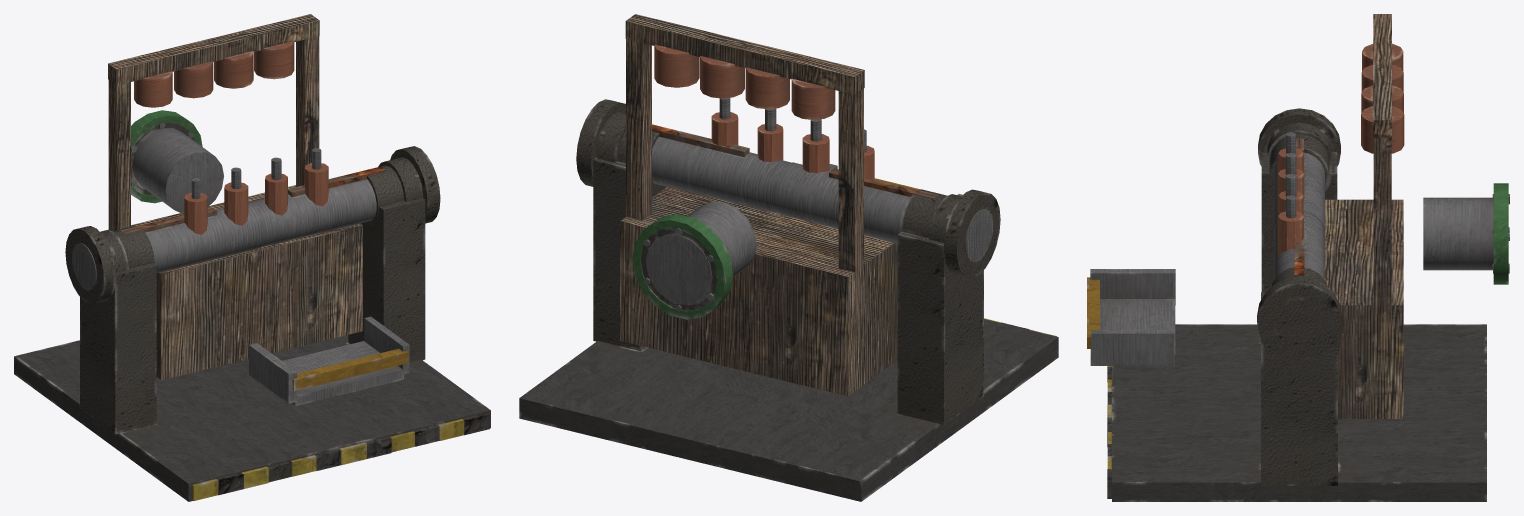
File: feSpinner_HD.fbx
The picture shows the model from 3 angles, left to right: view 1: azimuth 30°, elevation 25°; view 2: azimuth 150°, elevation 25°; view 3: azimuth 270°, elevation 25°; orthographic projection. The views are drawn at different scales.
Parts seen in each view (by area): view 1: feSpinner_Base, FeSpin_DriveShaft, FeSpin_x6_Spindle1, FeSpin_x6_Spindle3, FeSpin_x6_Spindle0, FeSpin_x6_Spindle2; view 2: feSpinner_Base, FeSpin_DriveShaft, FeSpin_x6_Spindle1, FeSpin_x6_Spindle2, FeSpin_x6_Spindle3; view 3: feSpinner_Base, FeSpin_DriveShaft, FeSpin_x6_Spindle3, FeSpin_x6_Spindle1, FeSpin_x6_Spindle2, FeSpin_x6_Spindle0.
Part boxes in pixels (left/top/right/bottom): feSpinner_Base: left=14, top=14, right=490, bottom=501; FeSpin_DriveShaft: left=65, top=146, right=440, bottom=303; FeSpin_x6_Spindle1: left=224, top=167, right=248, bottom=225; FeSpin_x6_Spindle3: left=305, top=148, right=328, bottom=206; FeSpin_x6_Spindle0: left=184, top=178, right=207, bottom=234; FeSpin_x6_Spindle2: left=265, top=157, right=287, bottom=215; feSpinner_Base: left=519, top=14, right=1058, bottom=501; FeSpin_DriveShaft: left=576, top=99, right=1000, bottom=277; FeSpin_x6_Spindle1: left=802, top=119, right=829, bottom=172; FeSpin_x6_Spindle2: left=757, top=108, right=783, bottom=161; FeSpin_x6_Spindle3: left=711, top=97, right=738, bottom=145; feSpinner_Base: left=1087, top=14, right=1509, bottom=501; FeSpin_DriveShaft: left=1257, top=108, right=1341, bottom=360; FeSpin_x6_Spindle3: left=1278, top=195, right=1303, bottom=253; FeSpin_x6_Spindle1: left=1278, top=153, right=1304, bottom=210; FeSpin_x6_Spindle2: left=1278, top=173, right=1303, bottom=214; FeSpin_x6_Spindle0: left=1278, top=132, right=1303, bottom=172.
Bounding box in the file's own units: 1 × 0.943 × 1.02.
1 material, 1 textured.
